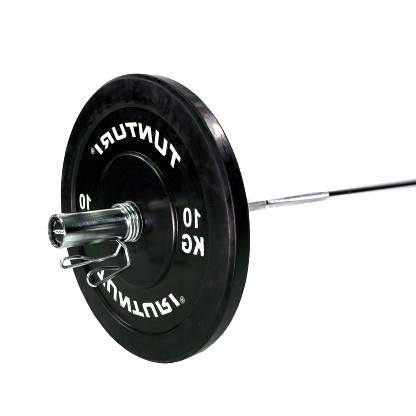Barbell: (35, 208, 73, 257)
